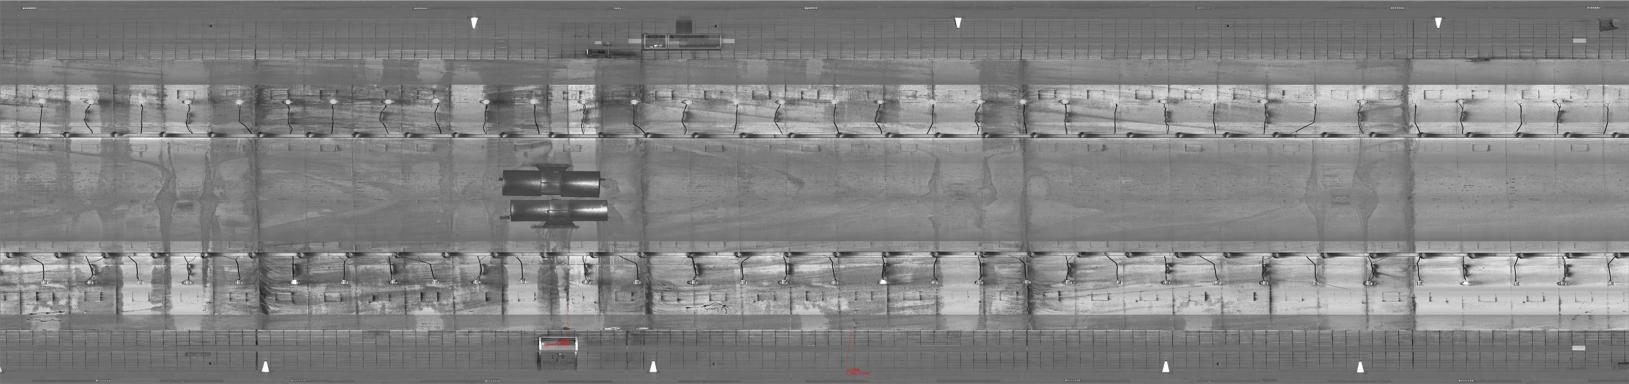light: (684, 273, 704, 290), (1547, 94, 1567, 109), (1597, 95, 1615, 110), (1360, 275, 1380, 289), (515, 273, 532, 289), (733, 275, 752, 289), (1352, 95, 1373, 107), (80, 276, 100, 289), (873, 276, 892, 289), (827, 275, 844, 290), (578, 275, 595, 289), (775, 275, 793, 289), (1552, 277, 1573, 289), (925, 276, 943, 289), (970, 276, 989, 289), (1157, 276, 1176, 289), (1207, 277, 1226, 290), (378, 94, 397, 107), (1255, 277, 1275, 289), (1405, 95, 1424, 107), (1060, 275, 1076, 289), (1508, 276, 1526, 289), (924, 95, 941, 108), (80, 95, 98, 108), (469, 277, 487, 289), (1305, 276, 1324, 287), (1412, 277, 1431, 289), (1255, 94, 1274, 106), (969, 95, 988, 107), (678, 95, 697, 107), (629, 276, 645, 289), (1019, 276, 1036, 289), (1111, 276, 1127, 289), (871, 95, 887, 108), (278, 95, 295, 108), (34, 276, 54, 286), (770, 95, 790, 106), (130, 277, 148, 289), (180, 277, 197, 289), (427, 277, 443, 290), (1459, 277, 1475, 289), (1511, 95, 1527, 107), (1305, 95, 1321, 107), (526, 95, 542, 107), (575, 97, 592, 107), (232, 95, 246, 108), (287, 277, 302, 289), (325, 97, 341, 108), (179, 98, 197, 107), (1015, 95, 1032, 106), (1604, 276, 1618, 289), (1158, 95, 1172, 108), (33, 95, 48, 107), (1451, 95, 1469, 105), (337, 278, 352, 289), (1058, 97, 1073, 107), (827, 97, 843, 107), (730, 95, 743, 108), (233, 277, 246, 289), (386, 278, 401, 289), (478, 97, 493, 106), (134, 98, 150, 107), (1207, 97, 1220, 108), (627, 95, 641, 106), (1110, 98, 1122, 108), (429, 97, 443, 106)
